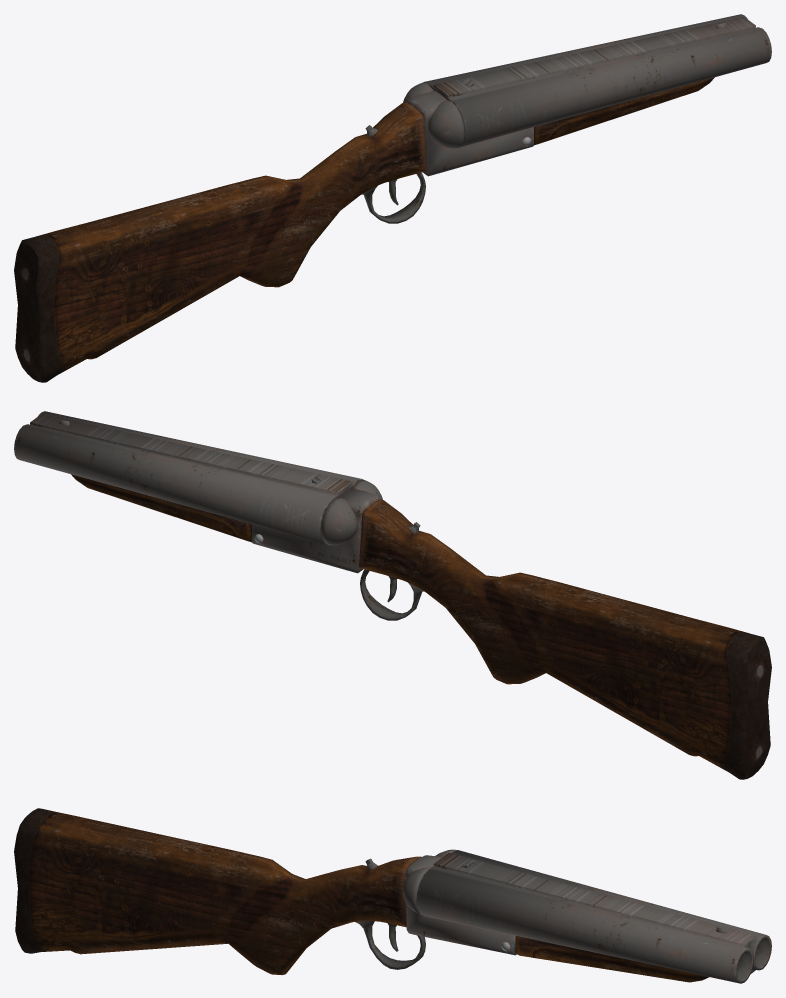
The model's file is shotgun.glb.
3 renders of one model, top to bottom at view 1: azimuth 30°, elevation 25°; view 2: azimuth 150°, elevation 25°; view 3: azimuth 330°, elevation 25°, orthographic.
Visible parts, largest first — view 1: defaultMaterial.003; view 2: defaultMaterial.003; view 3: defaultMaterial.003.
Part boxes in pixels (x1=…): defaultMaterial.003: x1=14, y1=14, x2=771, y2=382; defaultMaterial.003: x1=14, y1=411, x2=771, y2=779; defaultMaterial.003: x1=14, y1=808, x2=771, y2=983.
Bounding box in the file's own units: 1.18 × 0.301 × 0.1378.
Materials: 1 (1 with a texture image).
